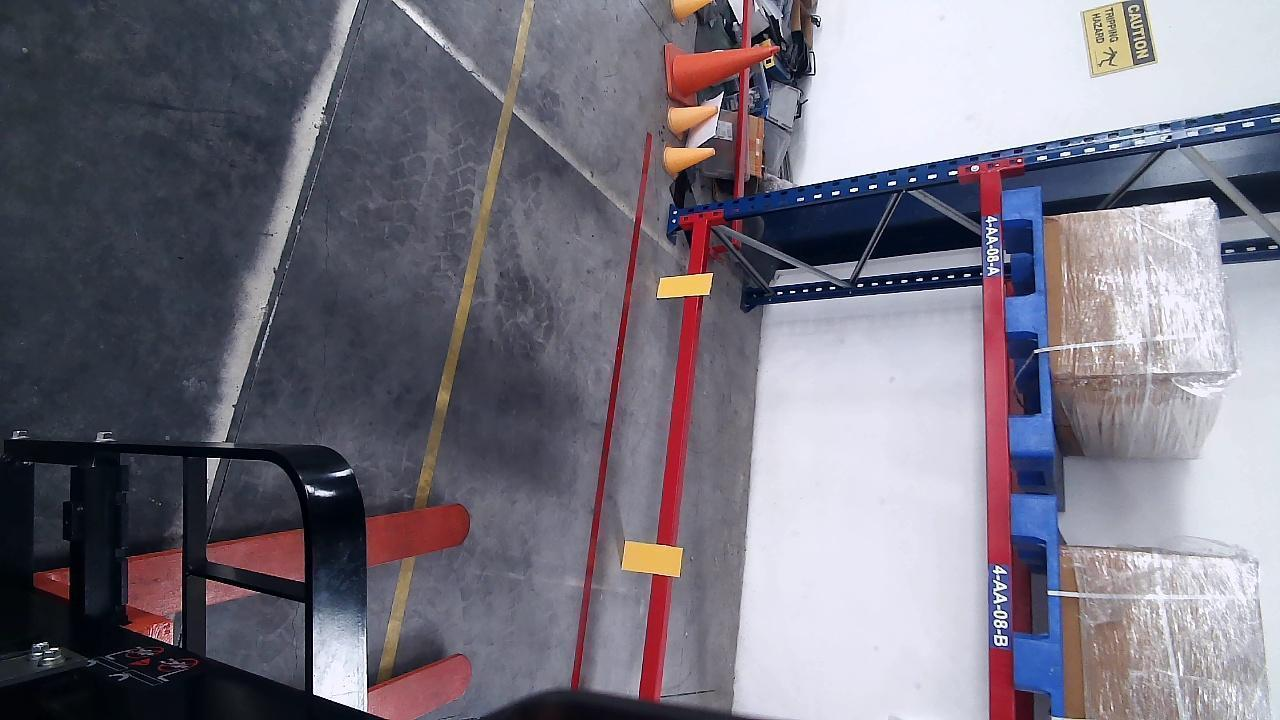red_line: (569, 131, 656, 687)
yellow_line: (371, 0, 539, 691)
